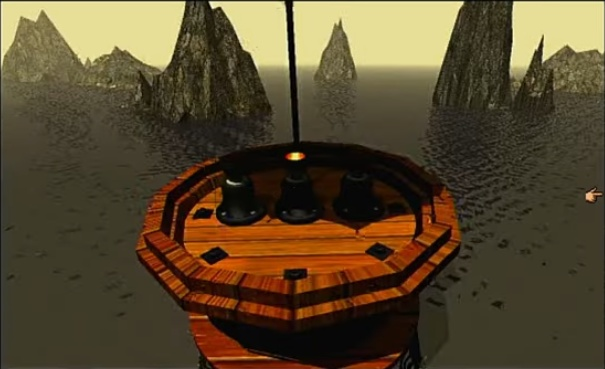Pointer: (584, 184, 603, 204)
